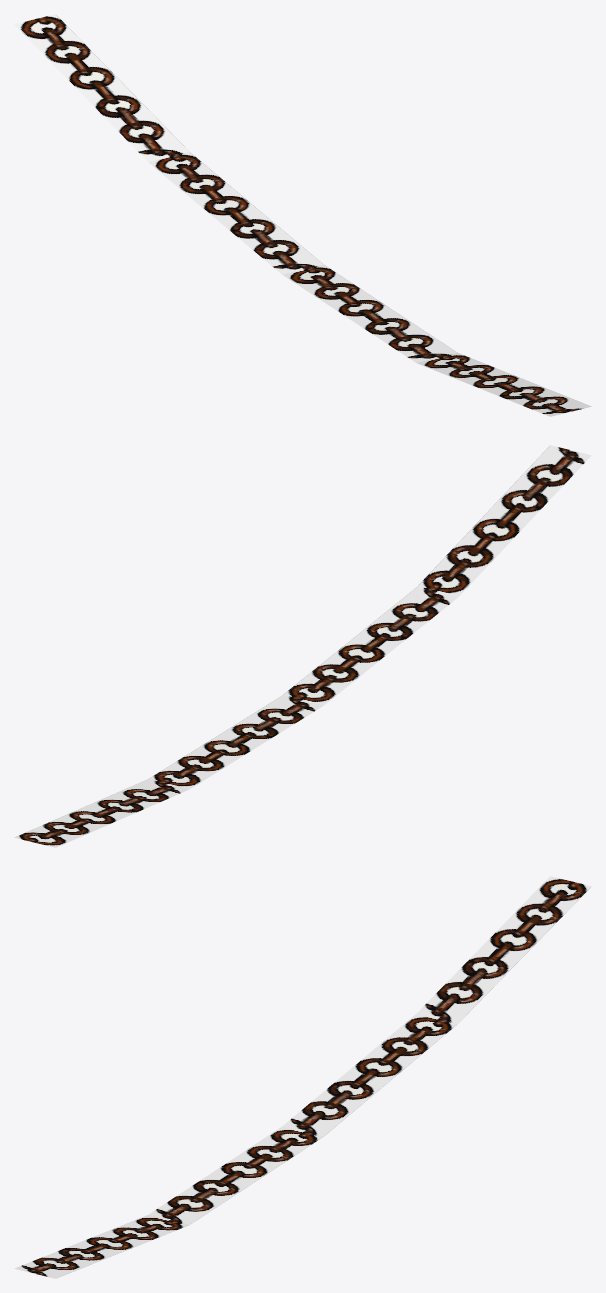
Rendered from Kette4_1813.glb.
3 views of the same model, one above another, from view 1: azimuth 30°, elevation 25°; view 2: azimuth 150°, elevation 25°; view 3: azimuth 330°, elevation 25° (orthographic).
Visible parts, largest first — view 1: pPlaneShape6; view 2: pPlaneShape6; view 3: pPlaneShape6.
Part boxes in pixels (x1,y1,x2,y2): pPlaneShape6: (14, 14, 591, 416); pPlaneShape6: (14, 445, 591, 847); pPlaneShape6: (14, 876, 591, 1278).
Bounding box in the file's own units: 0.0449 × 0.0557 × 1.
Materials: 1 (1 with a texture image).
